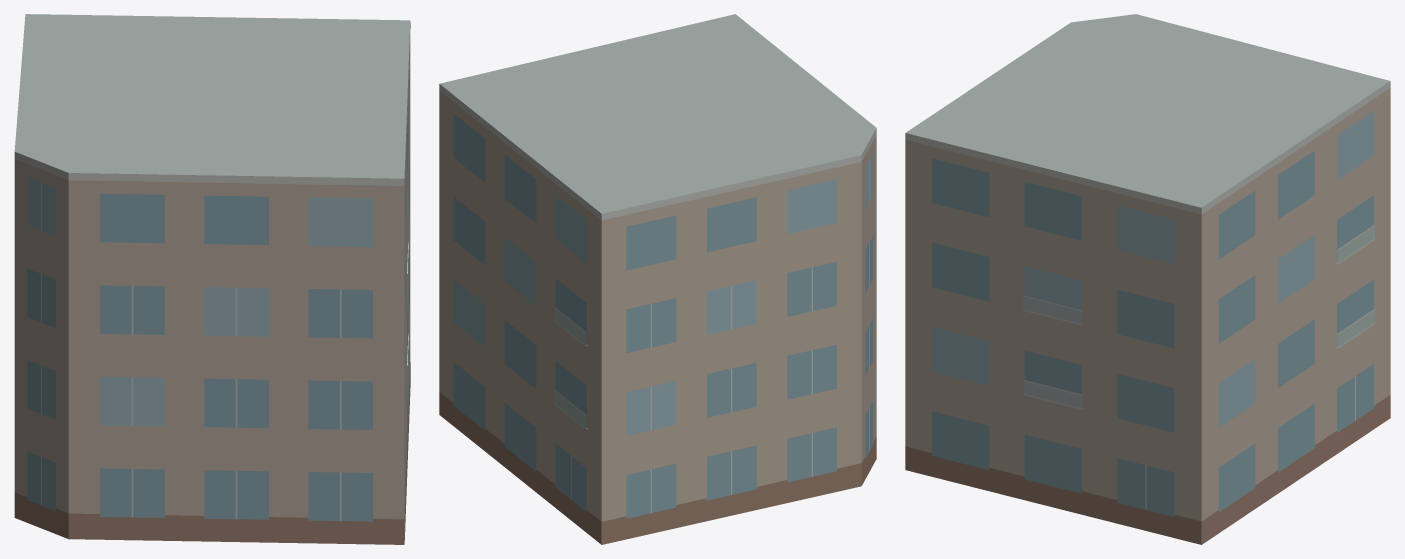
Rendered from survey-upis-33023827.glb.
3 views of the same model, side by side, from view 1: azimuth 30°, elevation 25°; view 2: azimuth 150°, elevation 25°; view 3: azimuth 270°, elevation 25° (orthographic). The views are drawn at different scales.
Parts seen in each view (by area): view 1: survey-upis-33023827.tmp; view 2: survey-upis-33023827.tmp; view 3: survey-upis-33023827.tmp.
Boxes of the visible parts, x1,y1,x2,y2 form: survey-upis-33023827.tmp: (14, 14, 410, 544); survey-upis-33023827.tmp: (439, 14, 876, 544); survey-upis-33023827.tmp: (905, 14, 1390, 544).
Size of the model in its own units: 15.05 by 12.2 by 15.92.
